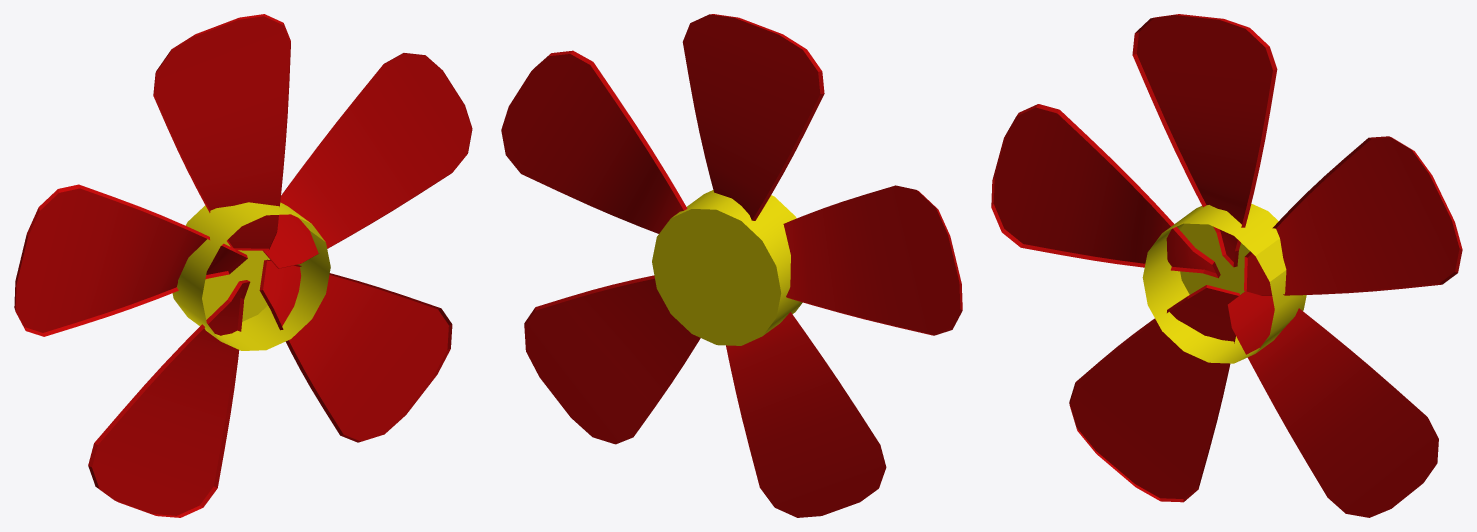
Rendered from WheelVent_high.fbx.
3 views of the same model, side by side, from view 1: azimuth 30°, elevation 25°; view 2: azimuth 150°, elevation 25°; view 3: azimuth 330°, elevation 25° (orthographic). The views are drawn at different scales.
Visible parts, largest first — view 1: Ventwheel_high; view 2: Ventwheel_high; view 3: Ventwheel_high.
Part boxes in pixels (x1,y1,x2,y2): Ventwheel_high: (14, 14, 472, 517); Ventwheel_high: (501, 14, 962, 517); Ventwheel_high: (991, 14, 1462, 517).
Bounding box in the file's own units: 168 × 170 × 21.09.
